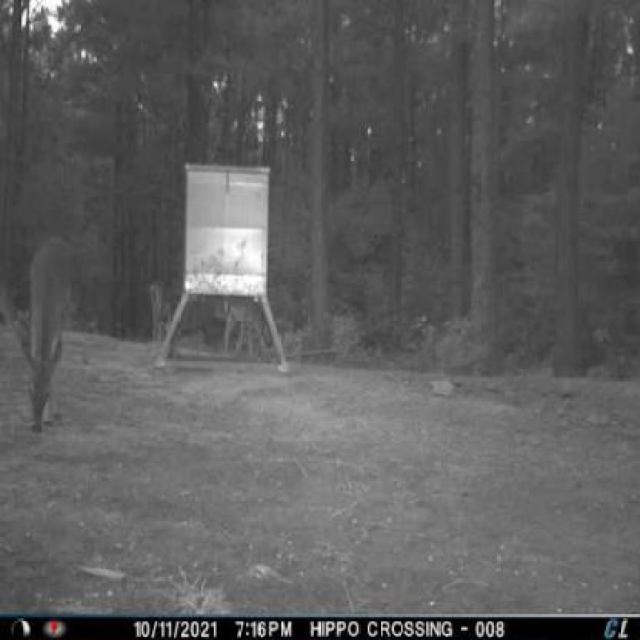Deer: (11, 224, 86, 442), (218, 287, 276, 368), (144, 283, 184, 382)
